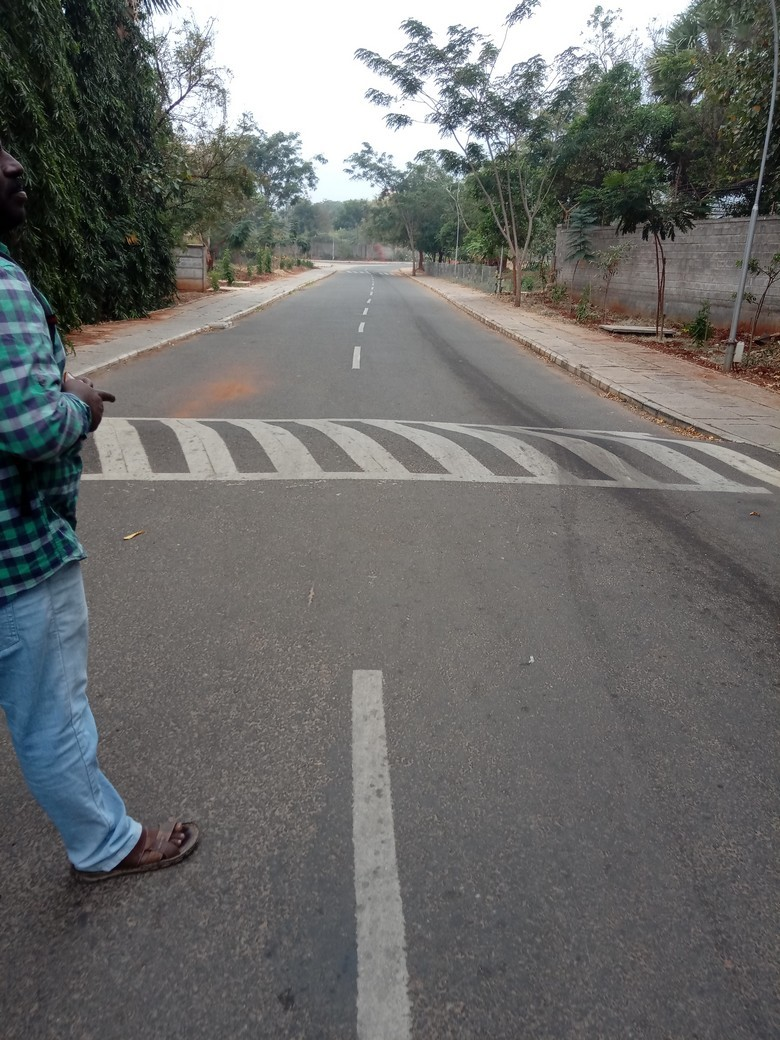bump: (80, 416, 780, 486)
